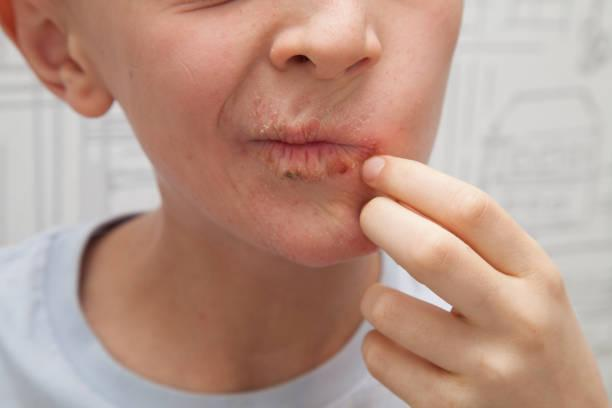Dry-Skin: (241, 98, 334, 221), (386, 34, 491, 128), (153, 52, 223, 139), (297, 6, 348, 99)
